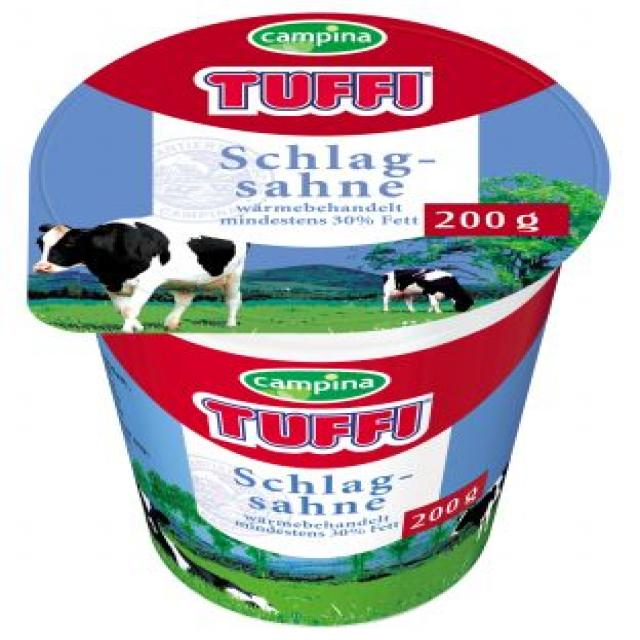cream: (29, 14, 609, 625)
